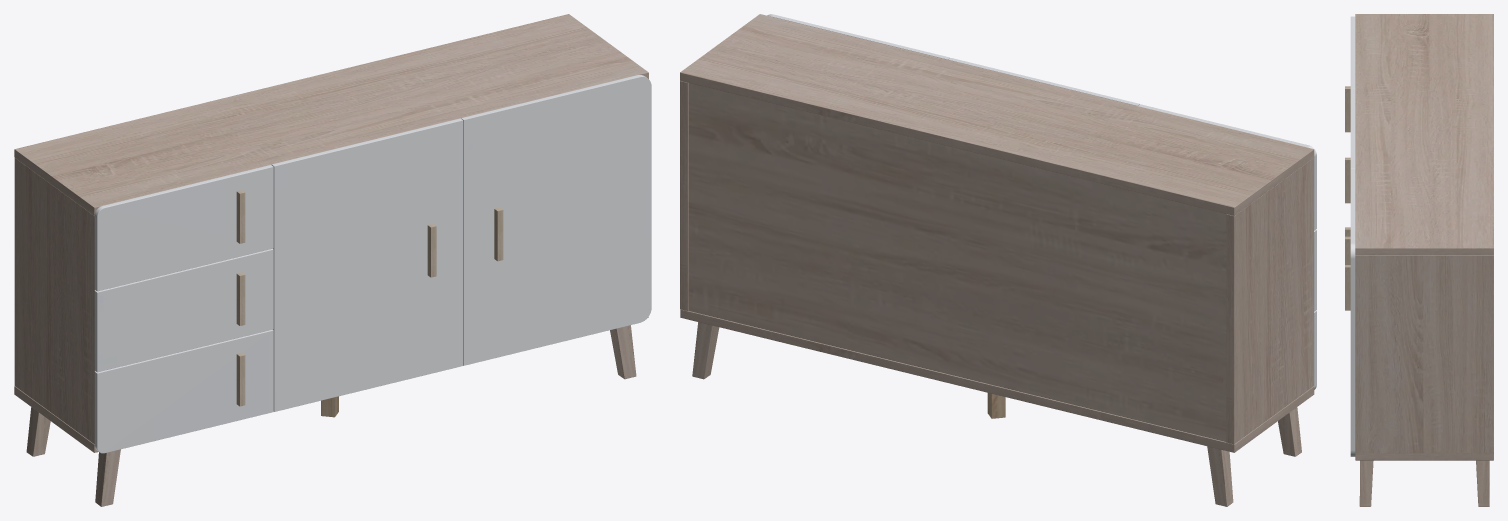
File: abo-B07H8NZHG9.glb
The picture shows the model from 3 angles, left to right: view 1: azimuth 30°, elevation 25°; view 2: azimuth 150°, elevation 25°; view 3: azimuth 270°, elevation 25°; orthographic projection. The views are drawn at different scales.
Size of the model in its own units: 1.49 by 0.78 by 0.4.
1 material, 1 textured.
